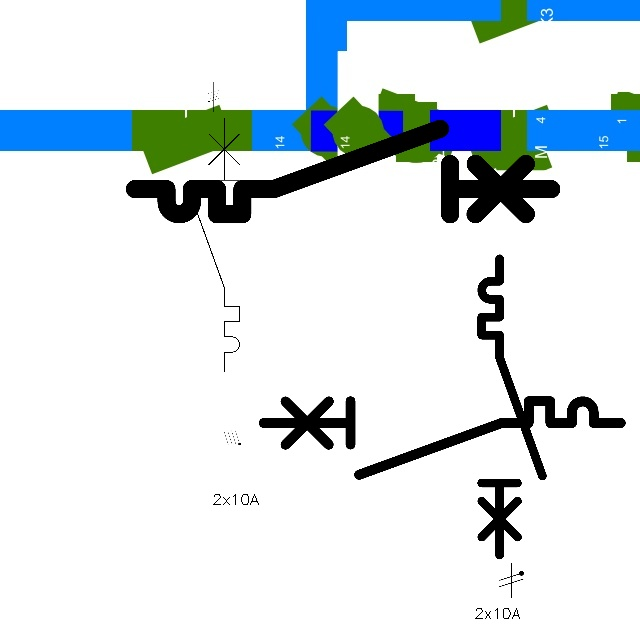interruptor_termomagnetico: (124, 118, 561, 225), (254, 392, 630, 484), (474, 251, 550, 563), (181, 112, 246, 378)
